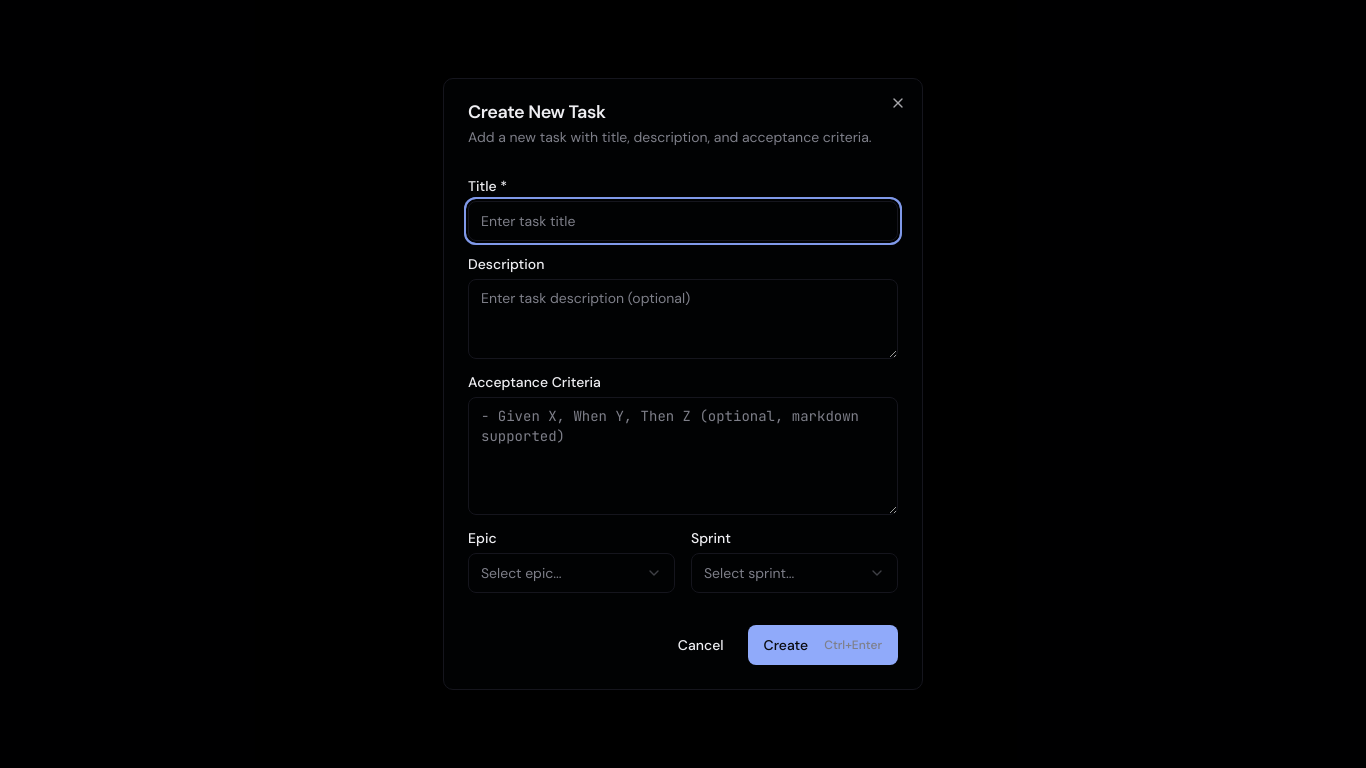
Scenario: CreateTaskDialog › should show validation error when submitting empty title
This screenshot has width=1366, height=768.
Step 1. Click the button with test id "create-button" → (823, 645), box [748,625,898,665]
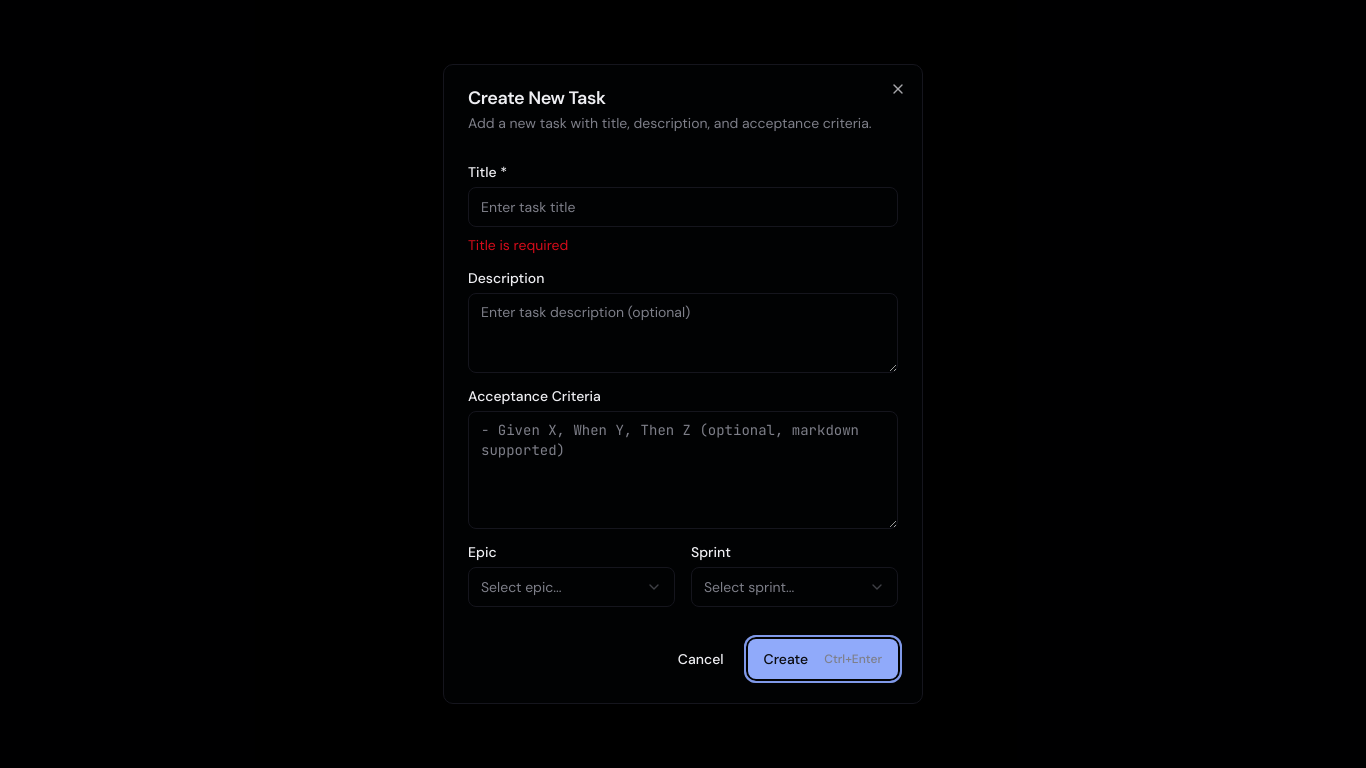
Check: the text with test id "title-error" reads "Title is required", box [468,236,568,254]
